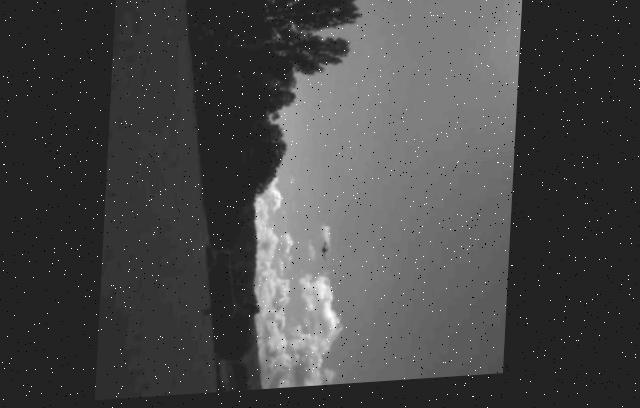drone: (322, 244, 335, 266)
